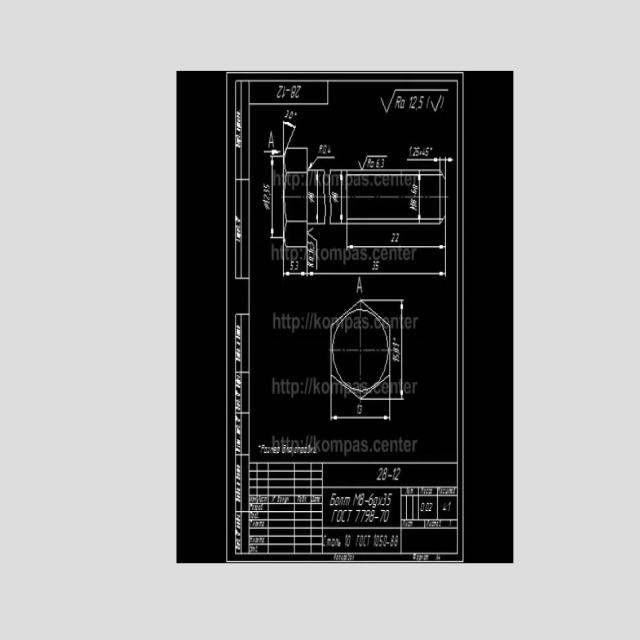marking_line: (280, 248, 447, 276), (345, 225, 449, 251), (391, 298, 406, 401), (330, 400, 391, 421), (268, 155, 282, 240), (282, 249, 308, 277), (406, 157, 455, 169), (282, 121, 296, 148), (309, 156, 335, 169), (339, 171, 344, 223), (314, 171, 319, 222), (418, 171, 421, 222), (263, 148, 282, 155)
numeric: (267, 132, 275, 149), (418, 94, 426, 109), (356, 277, 363, 294), (386, 493, 394, 506), (295, 85, 302, 98), (376, 467, 383, 480), (394, 467, 401, 480), (411, 94, 417, 109), (369, 508, 375, 523), (379, 509, 385, 524), (277, 85, 283, 99), (382, 467, 388, 481), (355, 509, 361, 523), (332, 192, 339, 204), (359, 493, 365, 506), (360, 510, 366, 523), (384, 510, 390, 523), (308, 192, 314, 204), (365, 508, 370, 522), (409, 97, 414, 110), (291, 85, 296, 98), (369, 493, 374, 506), (394, 536, 399, 549), (282, 85, 287, 97), (380, 158, 386, 168), (374, 158, 380, 168), (379, 534, 383, 548), (322, 144, 327, 155), (371, 260, 376, 271), (375, 259, 380, 270), (288, 111, 294, 120), (390, 535, 394, 548), (344, 535, 348, 548), (318, 144, 323, 154), (391, 233, 396, 243), (412, 146, 417, 156), (289, 261, 294, 271), (263, 194, 270, 201), (392, 348, 400, 354), (392, 468, 396, 480), (384, 536, 388, 548), (284, 109, 289, 118), (395, 232, 399, 243), (409, 145, 413, 156), (421, 502, 425, 513), (392, 341, 399, 347), (410, 198, 417, 204), (263, 183, 270, 189), (359, 404, 363, 414), (392, 356, 400, 361), (409, 206, 417, 211), (415, 147, 420, 155), (429, 502, 433, 512), (347, 536, 351, 546), (295, 260, 299, 270), (376, 535, 379, 548), (425, 147, 429, 156), (373, 534, 376, 546), (263, 190, 270, 195), (328, 145, 331, 155), (356, 404, 359, 414), (422, 147, 425, 156), (412, 185, 418, 189)
special_symbol: (374, 83, 451, 117), (308, 226, 318, 270), (359, 154, 388, 169), (430, 95, 442, 112), (414, 107, 418, 112), (295, 112, 298, 116)
